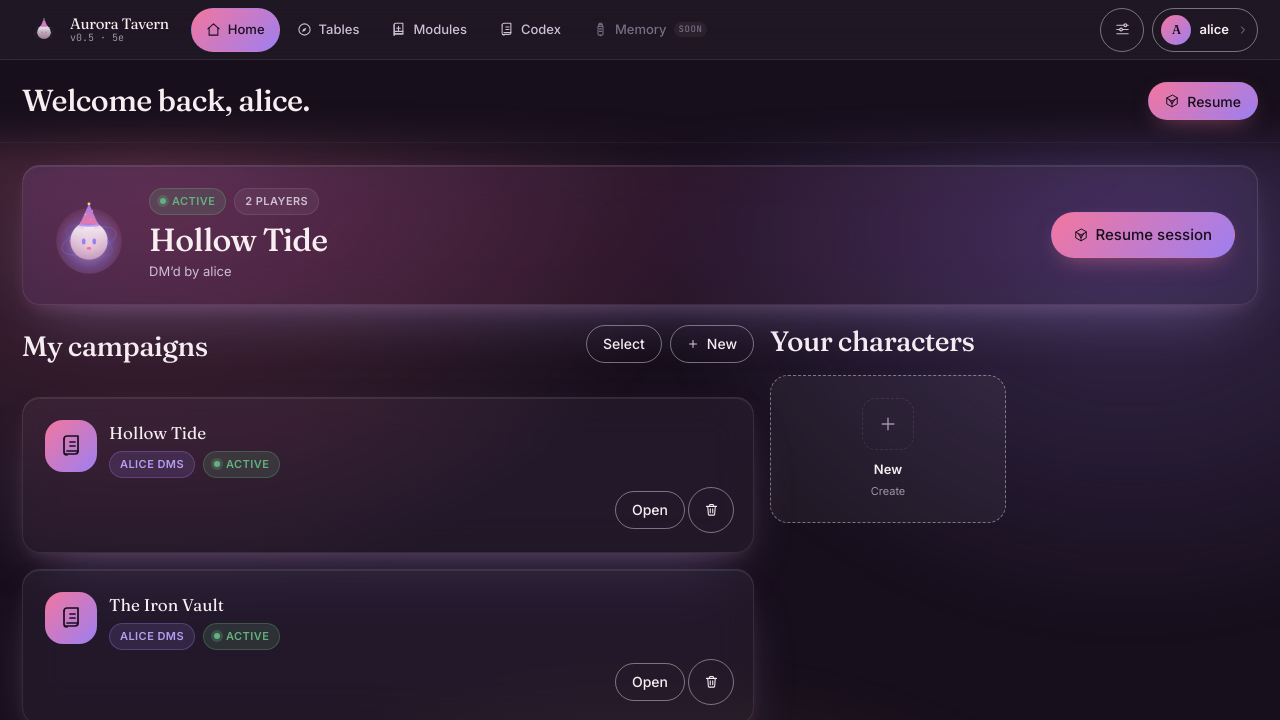
it: Bulk delete — campaigns list, DM-only select › renders a checkbox only for DM-owned rows once select mode is entered
Expected: the link "Resume session" is shown, [1050,212,1235,258]
Click the button "Select" at (624, 344), box [586,325,662,363]
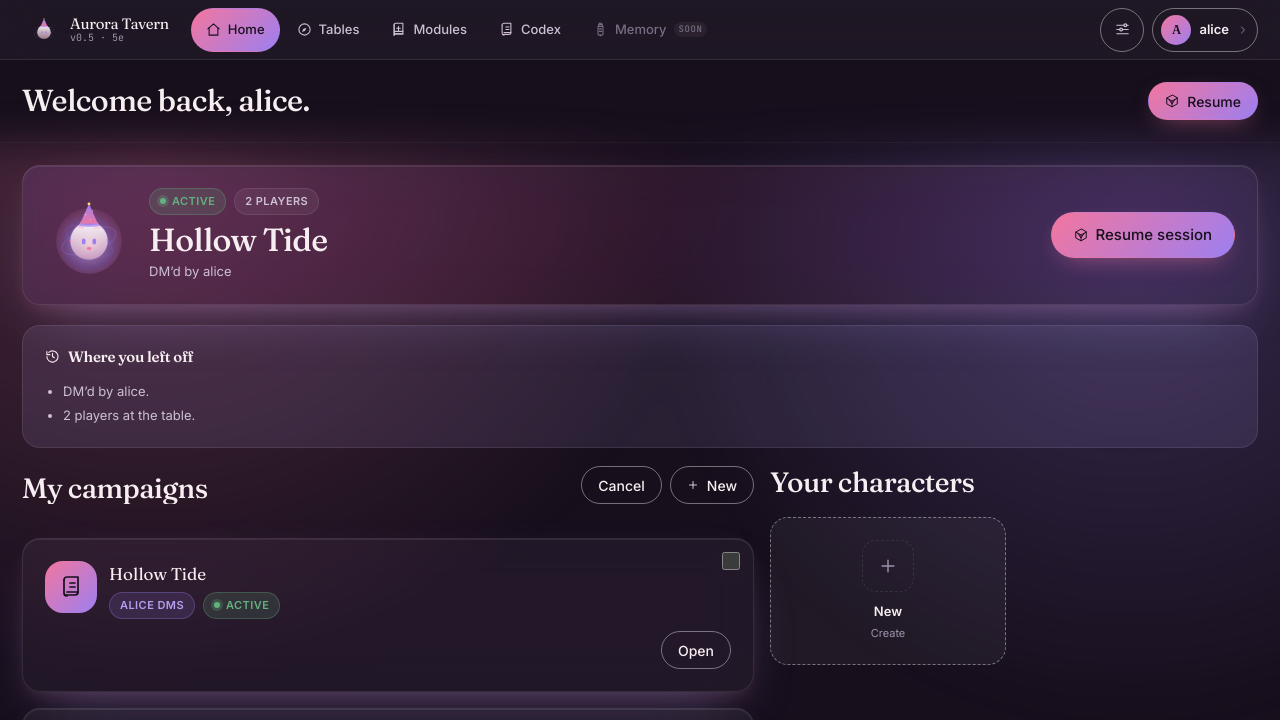
Now the number of checkboxes is 2
